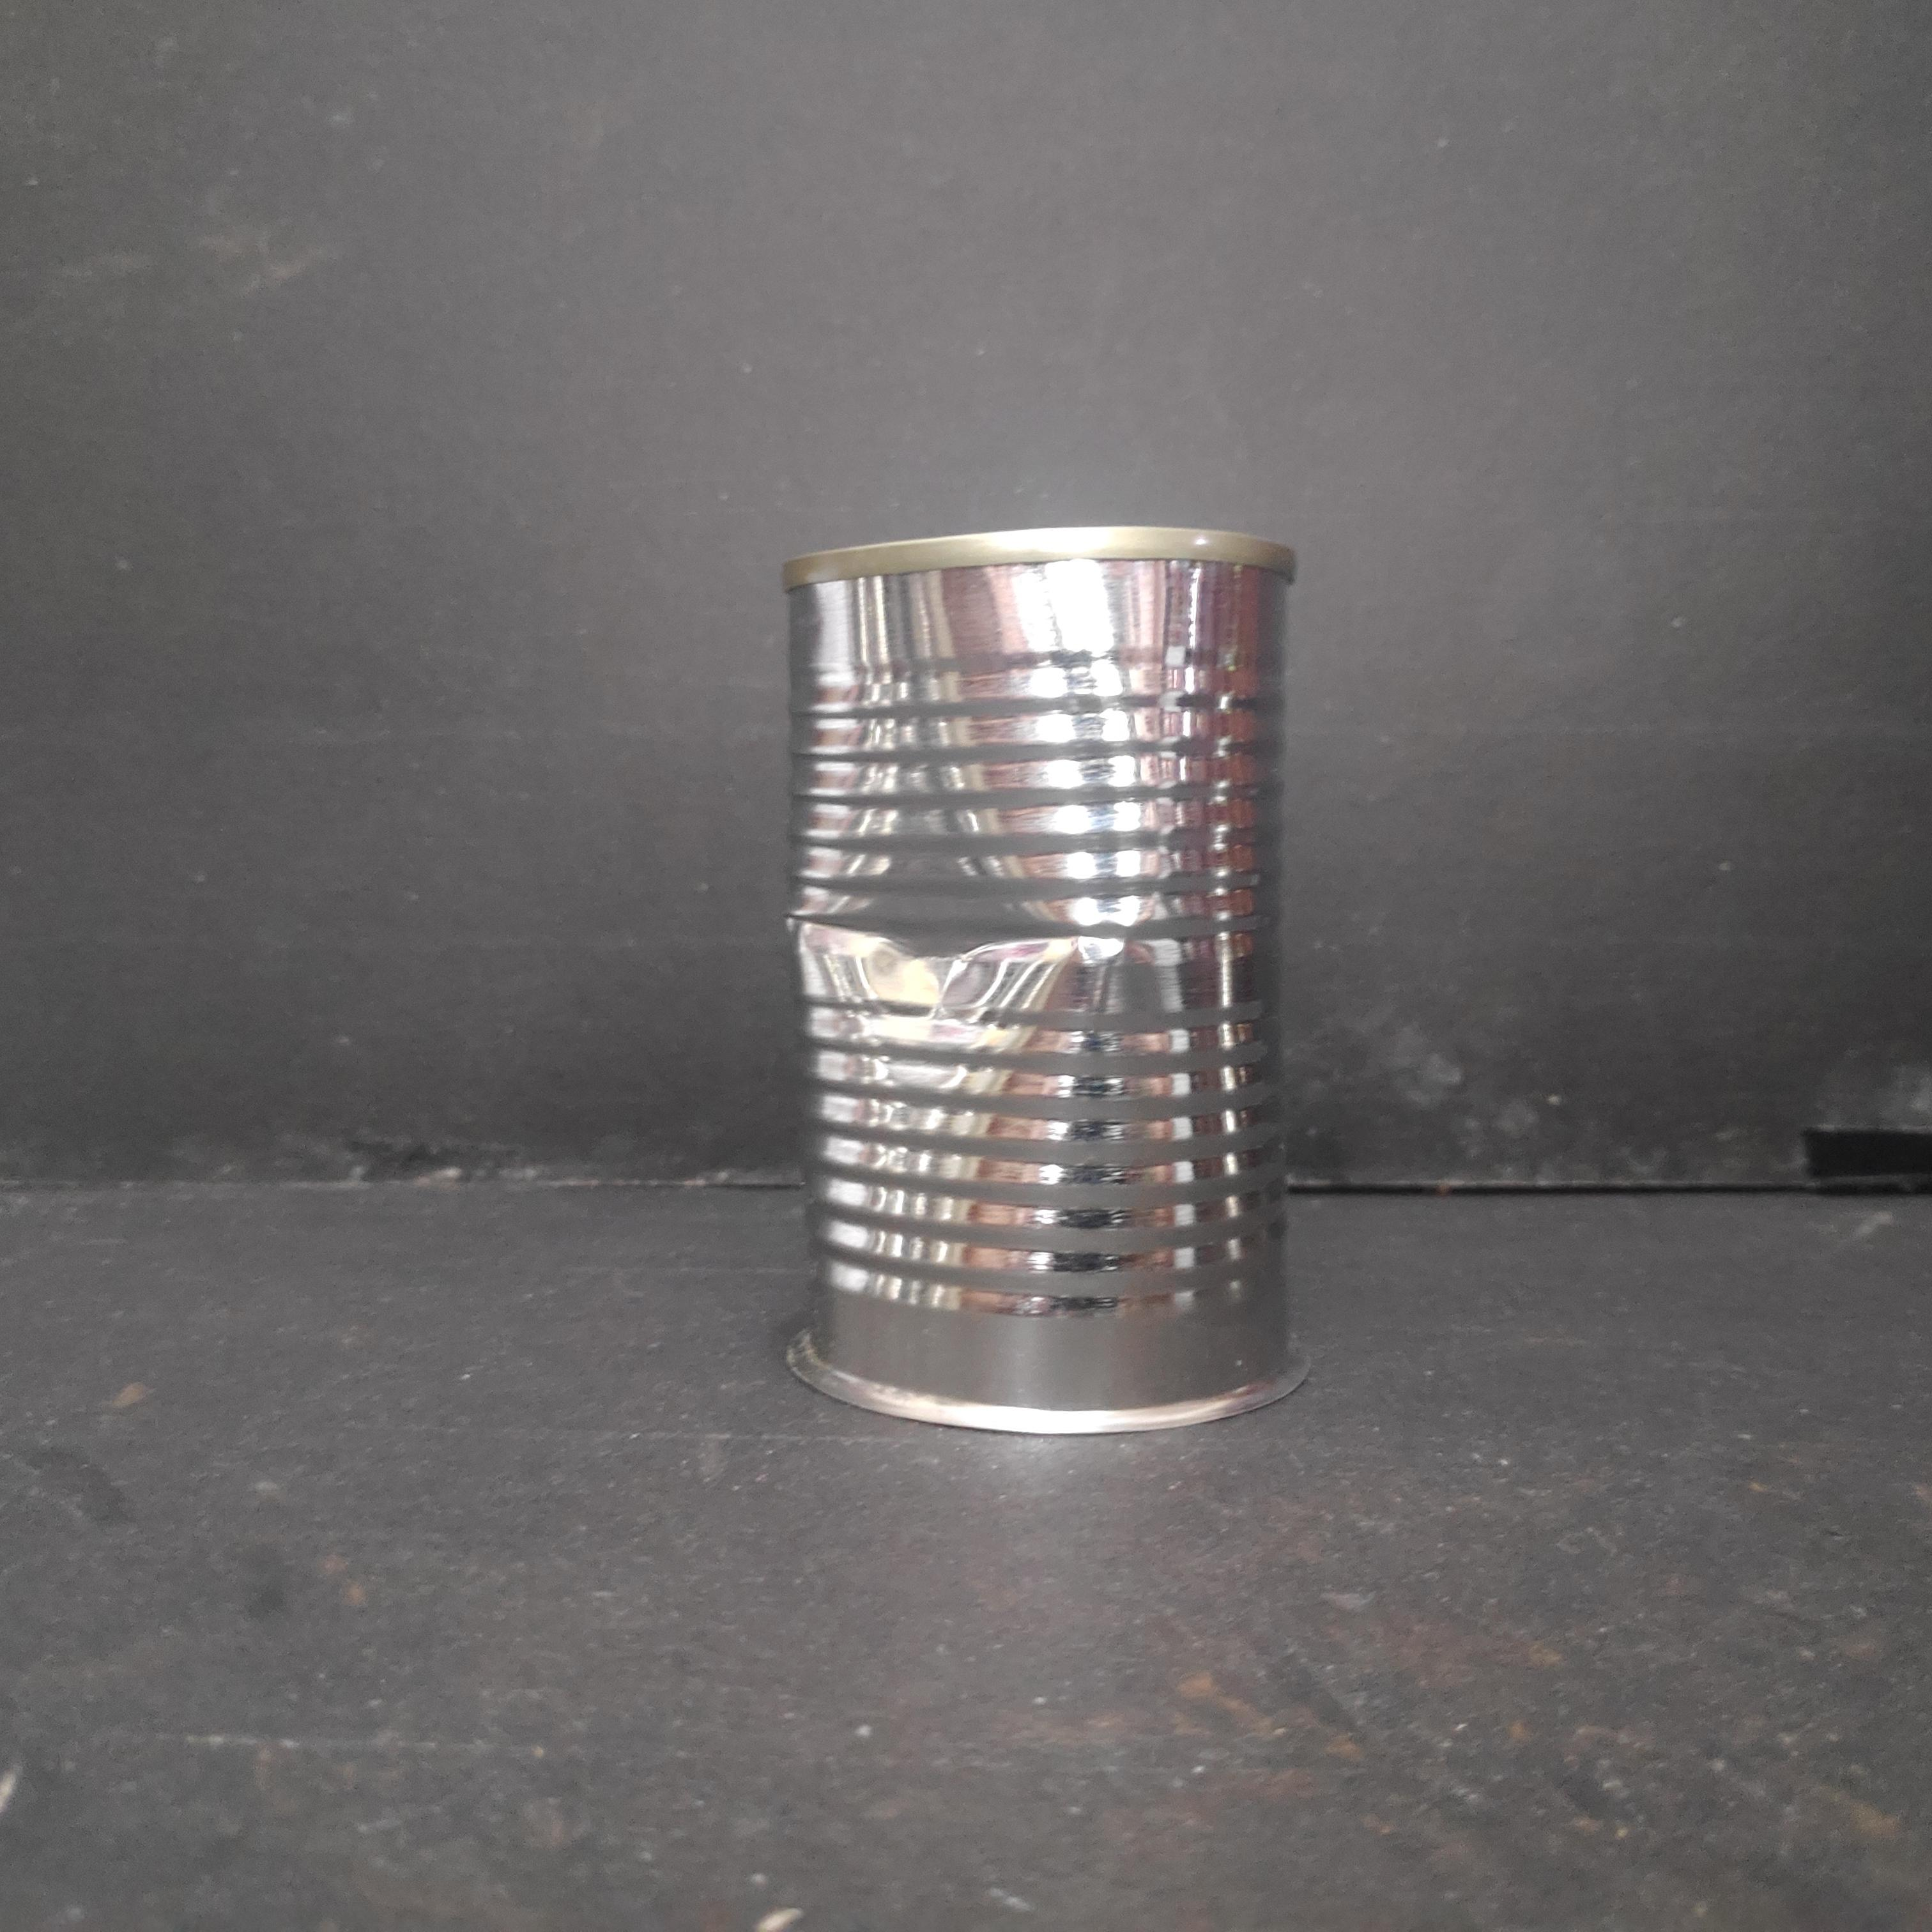Minor Defect: (768, 515, 1309, 1456)
